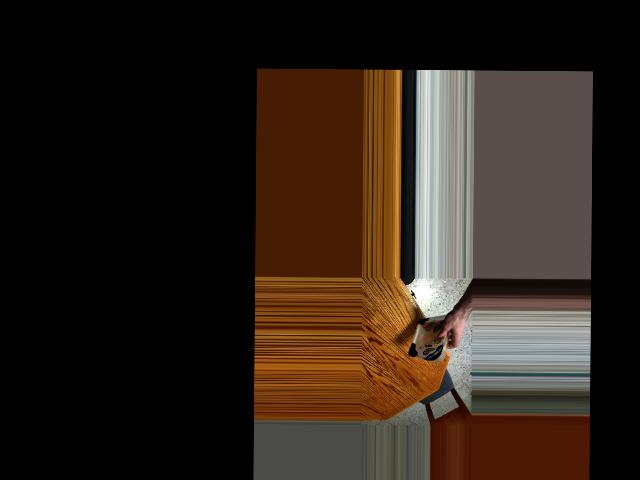cheese: (412, 312, 448, 364)
